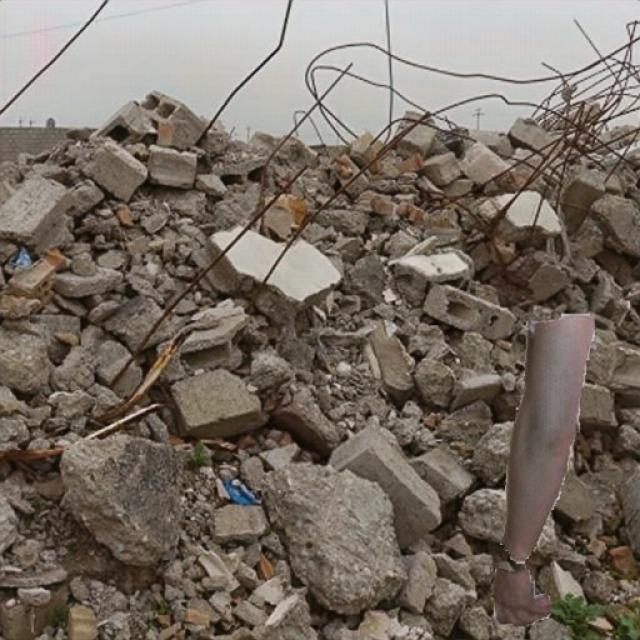Person in Rubble: (491, 314, 595, 625)
